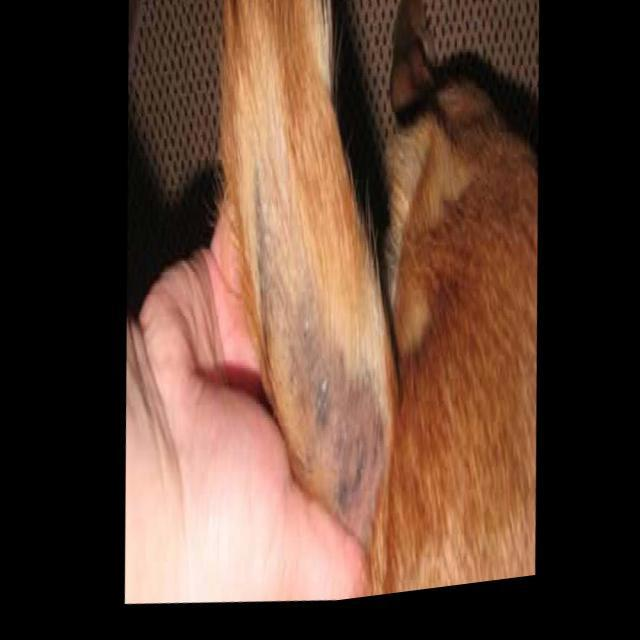allergic dermatitis: (266, 273, 396, 554)
